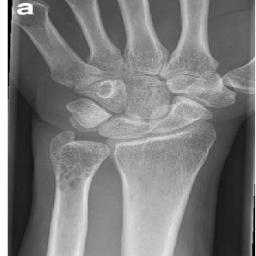cancer: (50, 131, 110, 189)
